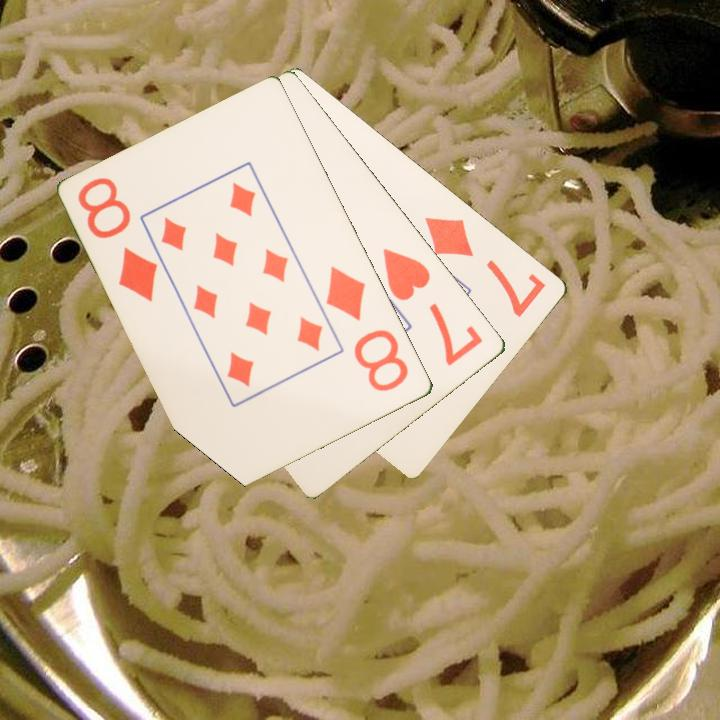7d: (422, 213, 550, 320)
7h: (379, 244, 487, 369)
8d: (323, 262, 412, 395), (74, 174, 162, 306)
